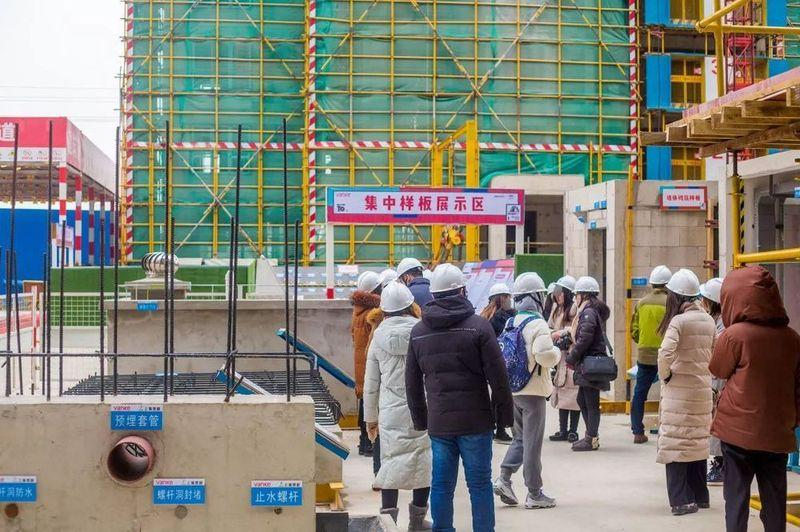helmet: (427, 263, 468, 296), (380, 284, 416, 314), (667, 269, 703, 298), (511, 272, 550, 298), (700, 277, 726, 304), (358, 272, 384, 295), (572, 277, 601, 295), (397, 258, 423, 278), (649, 265, 673, 286), (489, 282, 513, 300), (555, 274, 576, 293), (382, 270, 400, 284)
